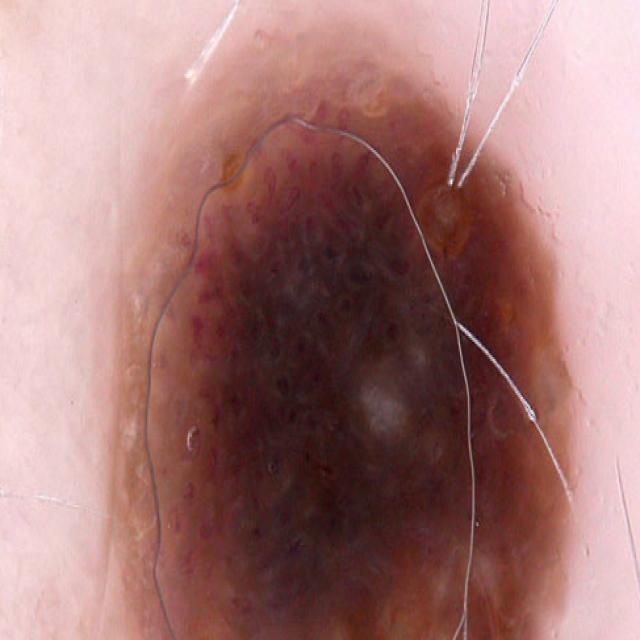Keratosis: (76, 9, 599, 640)
